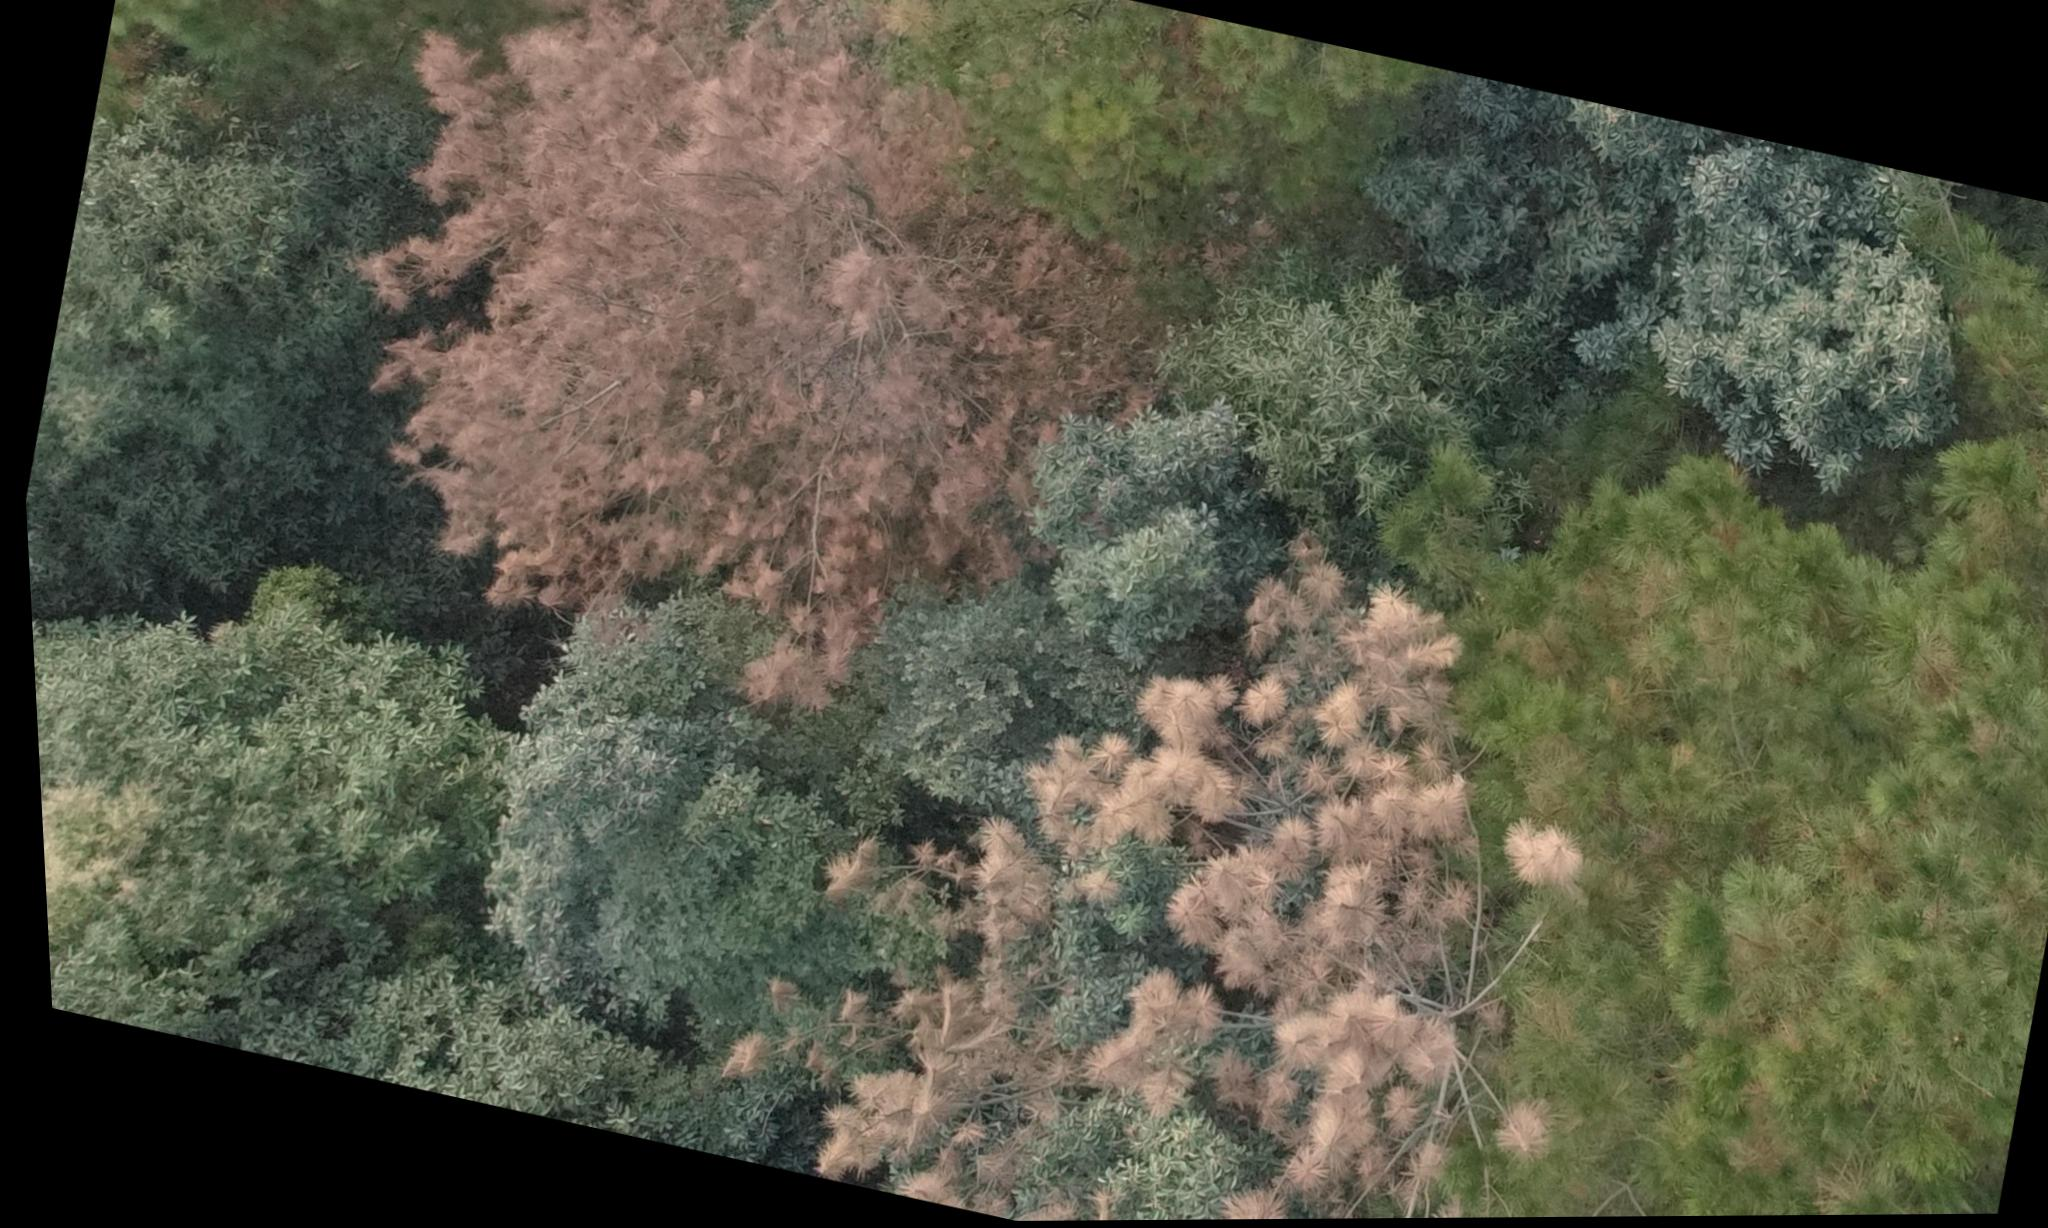heavy: (291, 0, 1300, 779), (721, 421, 1666, 1224)
light: (1405, 436, 2048, 1219)
